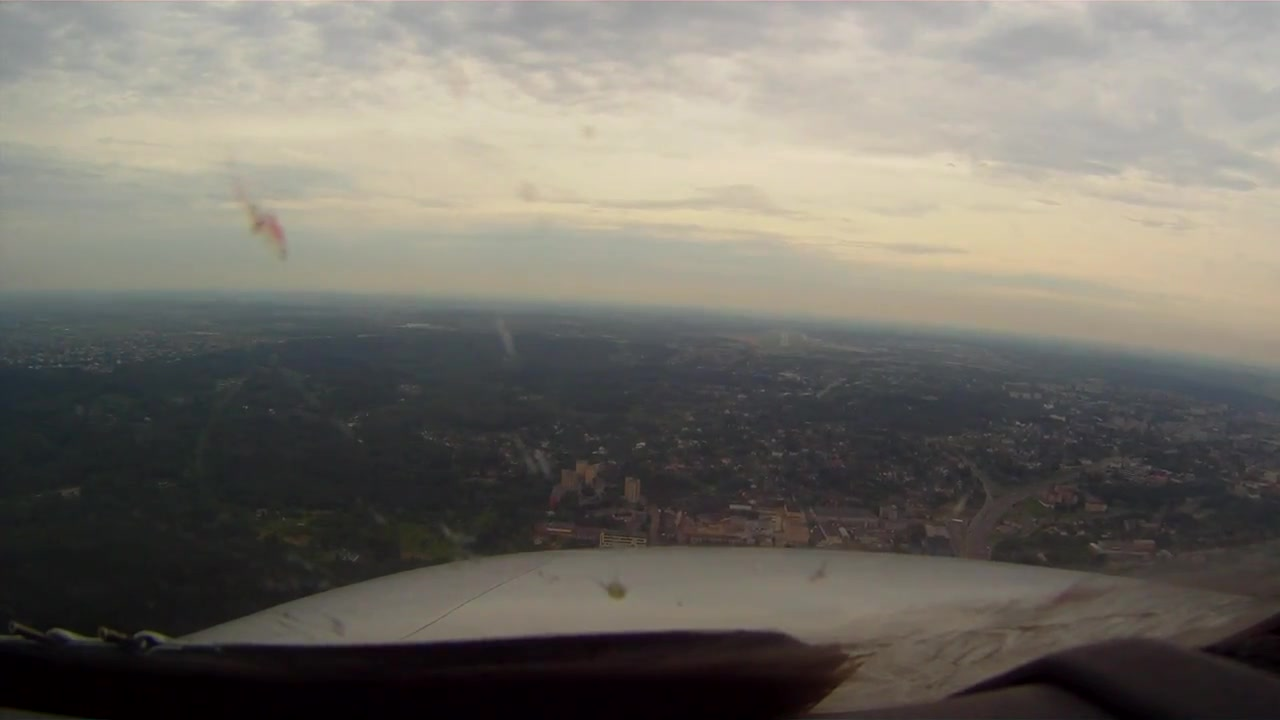runway: (776, 328, 789, 349)
